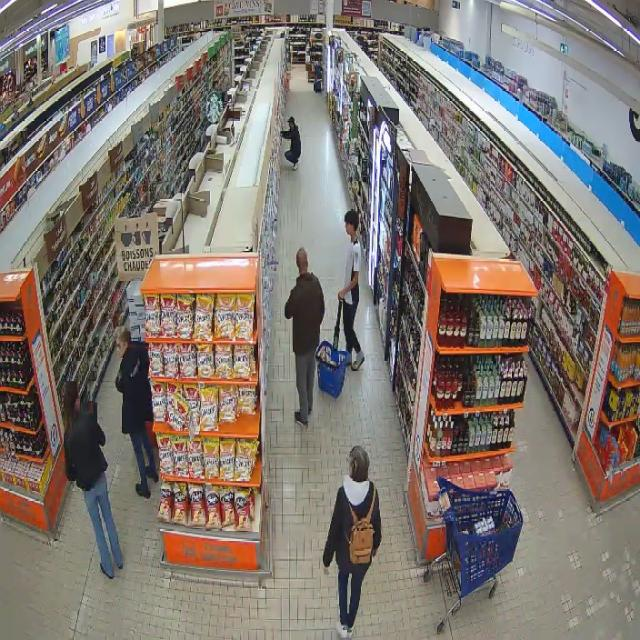bags: (349, 487, 376, 564)
hands: (338, 289, 346, 301), (372, 549, 377, 557), (324, 567, 329, 574)
person: (64, 382, 122, 578), (323, 446, 381, 637), (116, 327, 158, 498), (285, 248, 324, 426), (339, 209, 364, 370), (281, 117, 300, 168)
